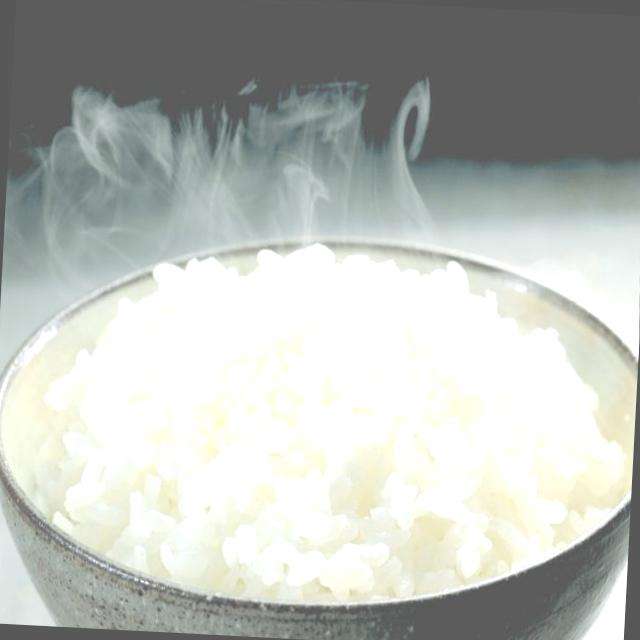Rice: (24, 214, 640, 630)
